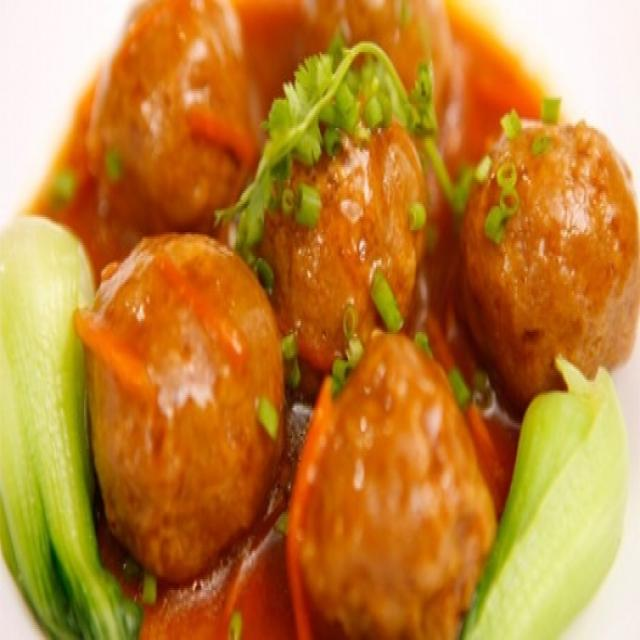Meatball: (84, 217, 290, 571), (297, 321, 499, 640), (462, 106, 640, 406), (254, 85, 433, 382)
